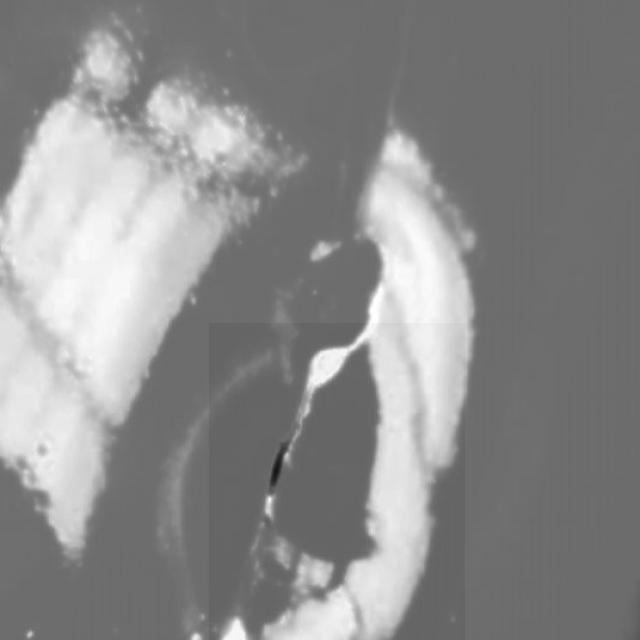crack: (210, 324, 466, 640)
